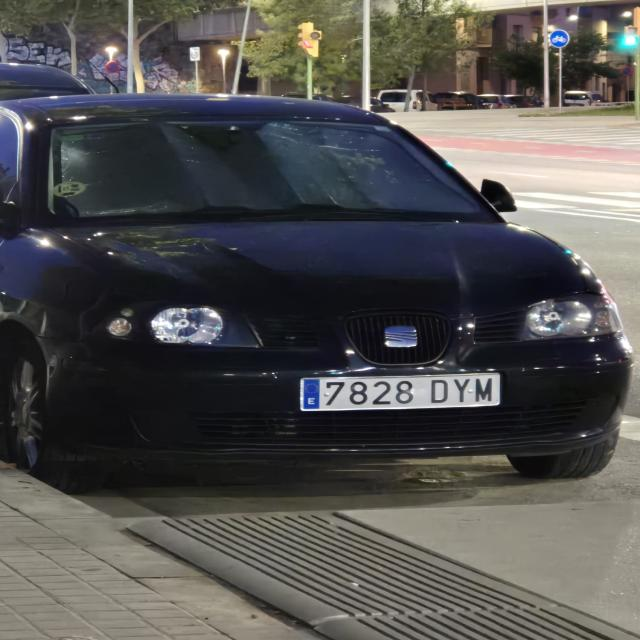license_plate-34Td: (300, 372, 500, 411)
